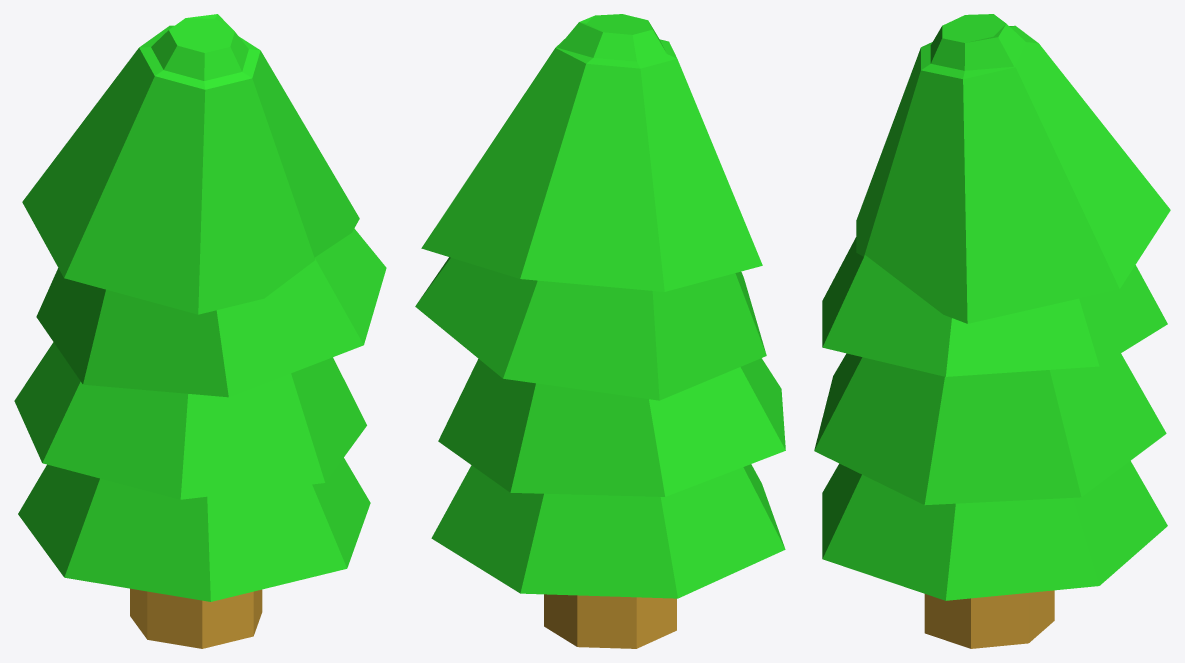
File: tree1.fbx
3 views of the same model, side by side, from view 1: azimuth 30°, elevation 25°; view 2: azimuth 150°, elevation 25°; view 3: azimuth 270°, elevation 25° (orthographic).
Parts seen in each view (by area): view 1: Cylinder.001; view 2: Cylinder.001; view 3: Cylinder.001.
Part boxes in pixels (x1,y1,x2,y2): Cylinder.001: [14, 14, 386, 648]; Cylinder.001: [415, 14, 785, 648]; Cylinder.001: [814, 14, 1170, 648].
Bounding box in the file's own units: 565 × 964 × 522.
